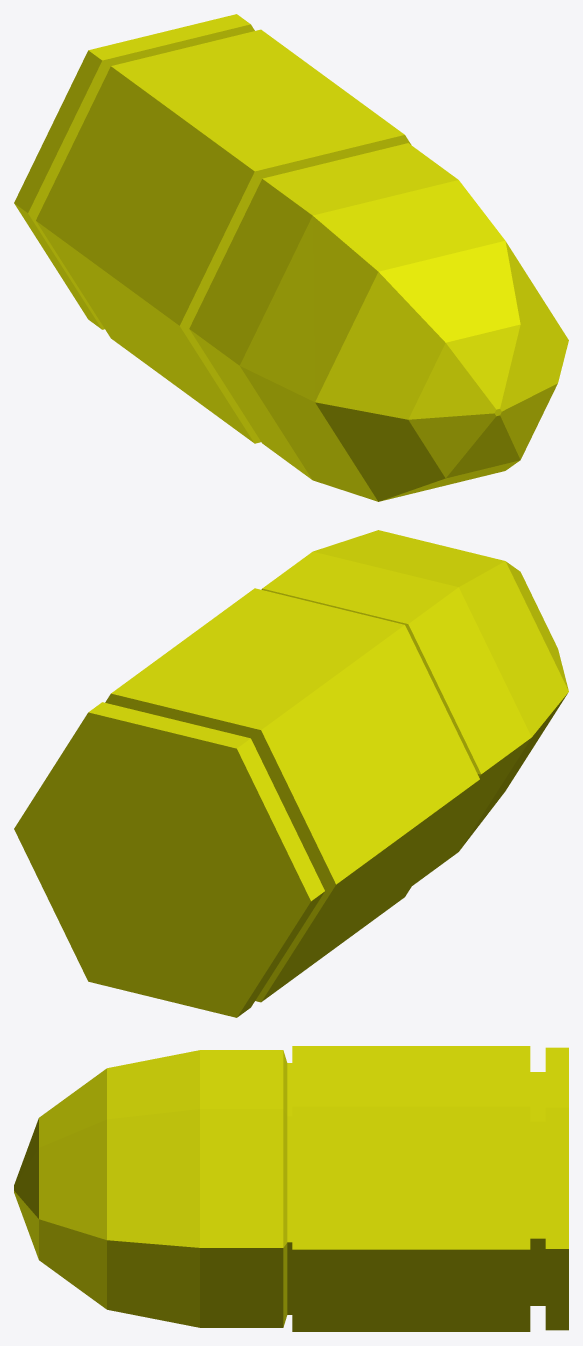
File: Bullet.fbx
3 views of the same model, one above another, from view 1: azimuth 30°, elevation 25°; view 2: azimuth 150°, elevation 25°; view 3: azimuth 270°, elevation 25° (orthographic). The views are drawn at different scales.
Parts seen in each view (by area): view 1: FabConvert_com_bullet:Mesh; view 2: FabConvert_com_bullet:Mesh; view 3: FabConvert_com_bullet:Mesh.
Boxes of the visible parts, box(x1,y1,x2,y2) form: FabConvert_com_bullet:Mesh: box(14, 14, 568, 501); FabConvert_com_bullet:Mesh: box(14, 530, 568, 1017); FabConvert_com_bullet:Mesh: box(14, 1046, 568, 1331).
Size of the model in its own units: 0.1244 by 0.1077 by 0.2407.
